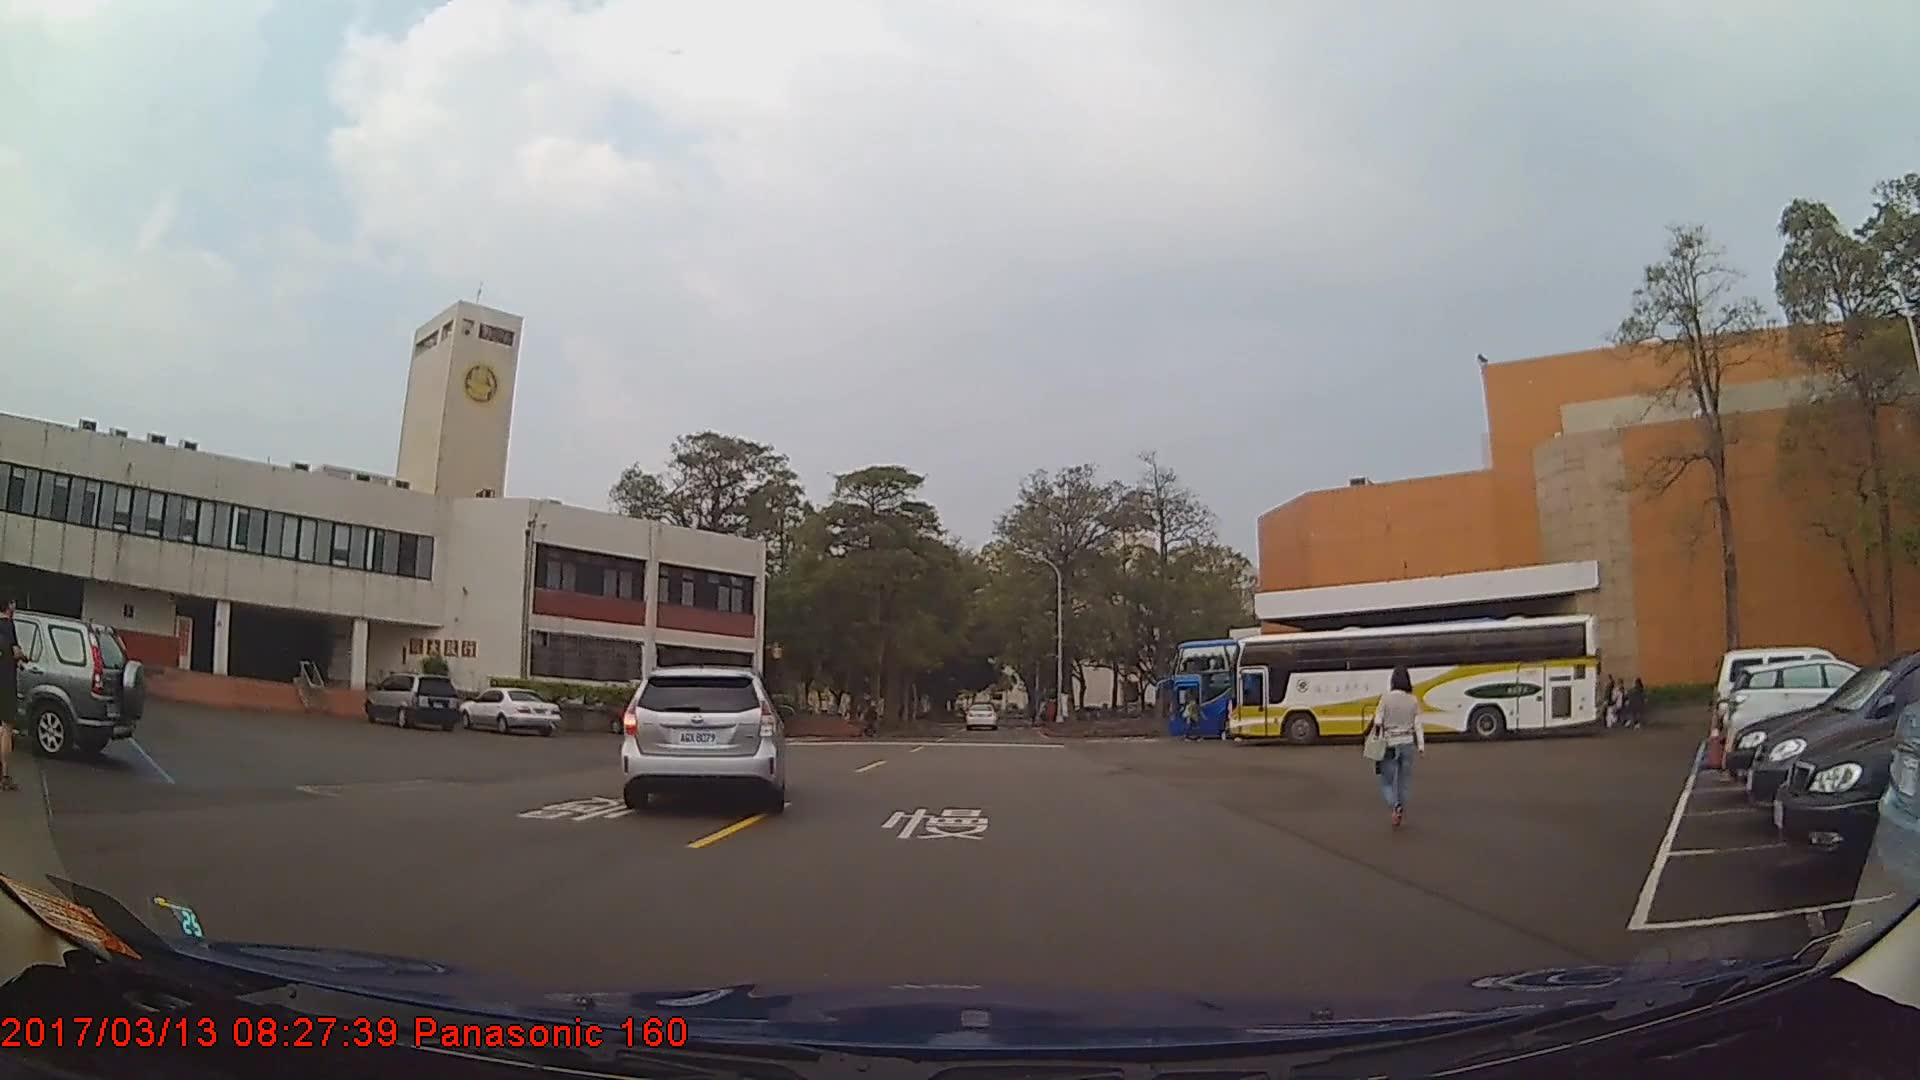pedestrian: (1365, 660, 1425, 830), (1, 598, 31, 796), (1622, 668, 1654, 731)
vehicle: (1224, 614, 1600, 748), (1163, 637, 1476, 738), (1748, 654, 1920, 837), (621, 662, 782, 810), (0, 606, 144, 762), (1723, 656, 1901, 753), (361, 672, 460, 729), (456, 685, 562, 735), (965, 703, 997, 731)
